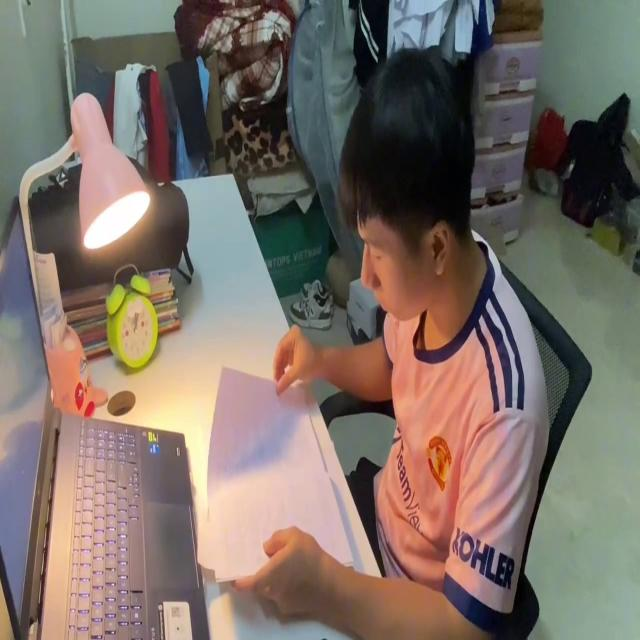book: (196, 358, 354, 591)
laptop: (0, 186, 213, 640)
student: (236, 40, 548, 640)
